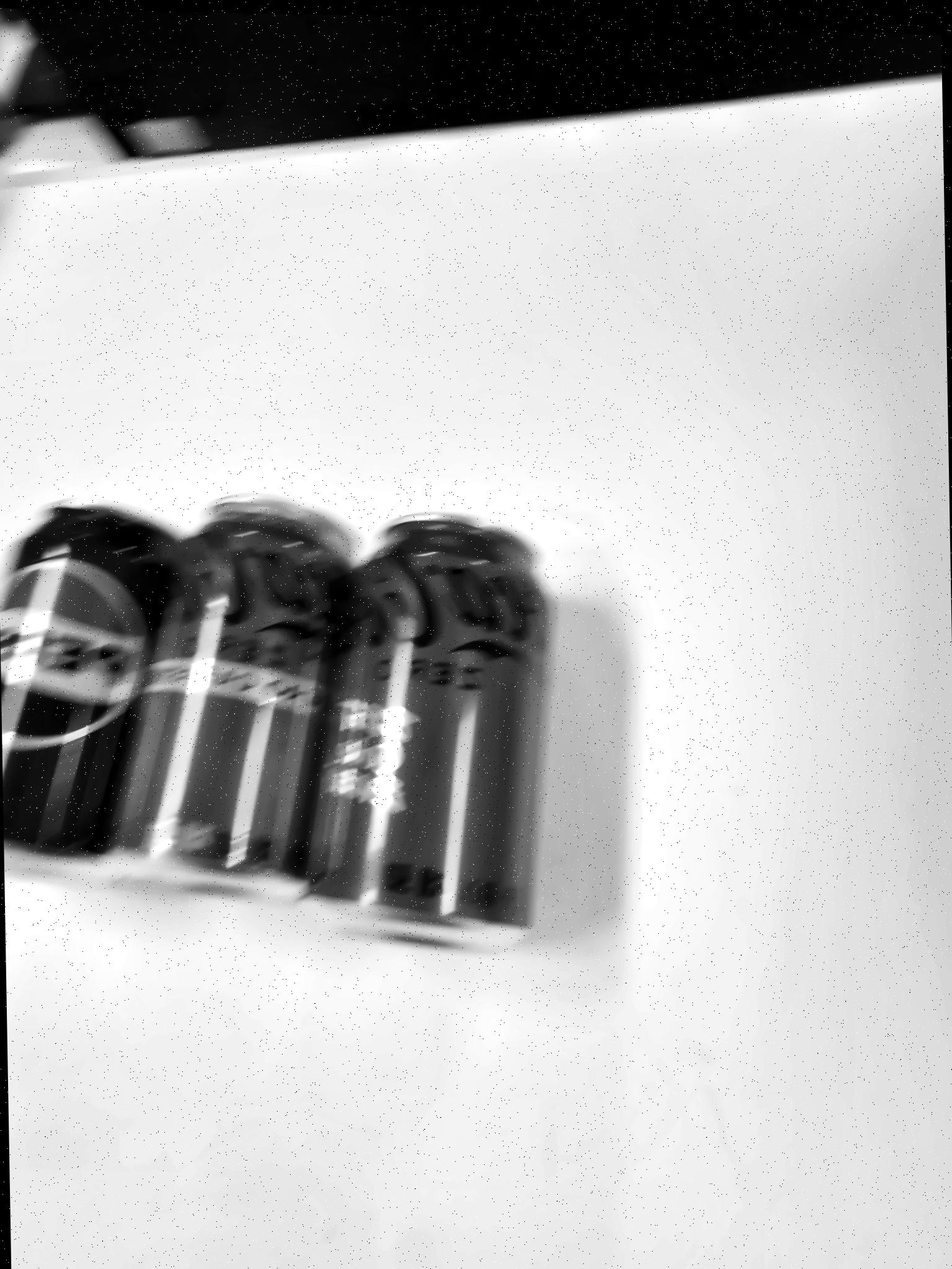can_coke_decaf: (111, 494, 357, 903)
can_coke_zero: (303, 514, 555, 954)
can_pepsi: (0, 496, 186, 885)
